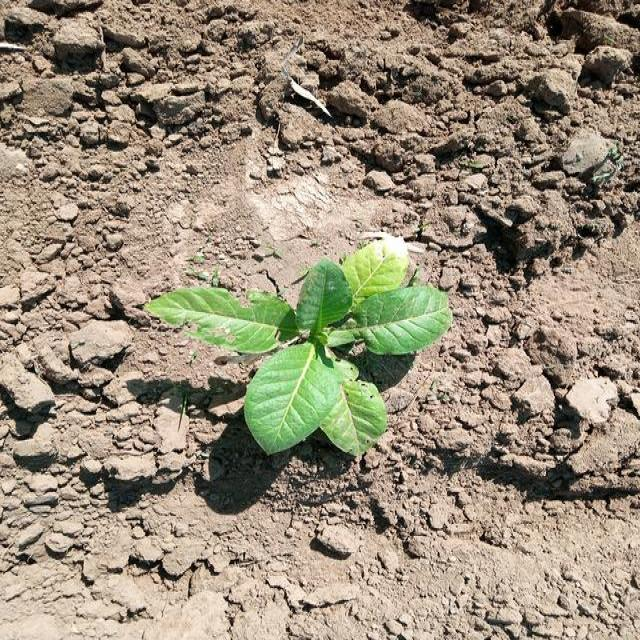crop: (148, 238, 454, 456)
